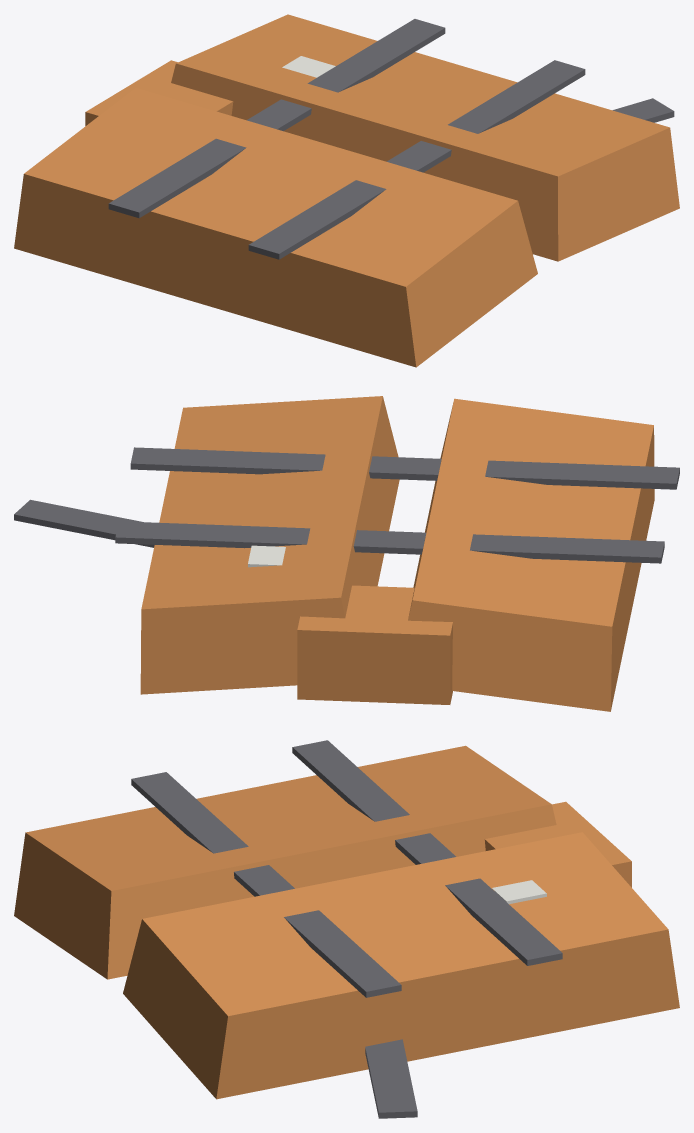
The model's file is prop_debris_lifejacket.fbx.
The picture shows the model from 3 angles, top to bottom: view 1: azimuth 30°, elevation 25°; view 2: azimuth 150°, elevation 25°; view 3: azimuth 270°, elevation 25°; orthographic projection. The views are drawn at different scales.
Visible parts, largest first — view 1: prop_debris_lifejacket; view 2: prop_debris_lifejacket; view 3: prop_debris_lifejacket.
Part boxes in pixels (x1,y1,x2,y2): prop_debris_lifejacket: [14, 14, 679, 367]; prop_debris_lifejacket: [14, 396, 679, 711]; prop_debris_lifejacket: [14, 740, 679, 1118].
Size of the model in its own units: 0.6629 by 0.0996 by 0.5989.
